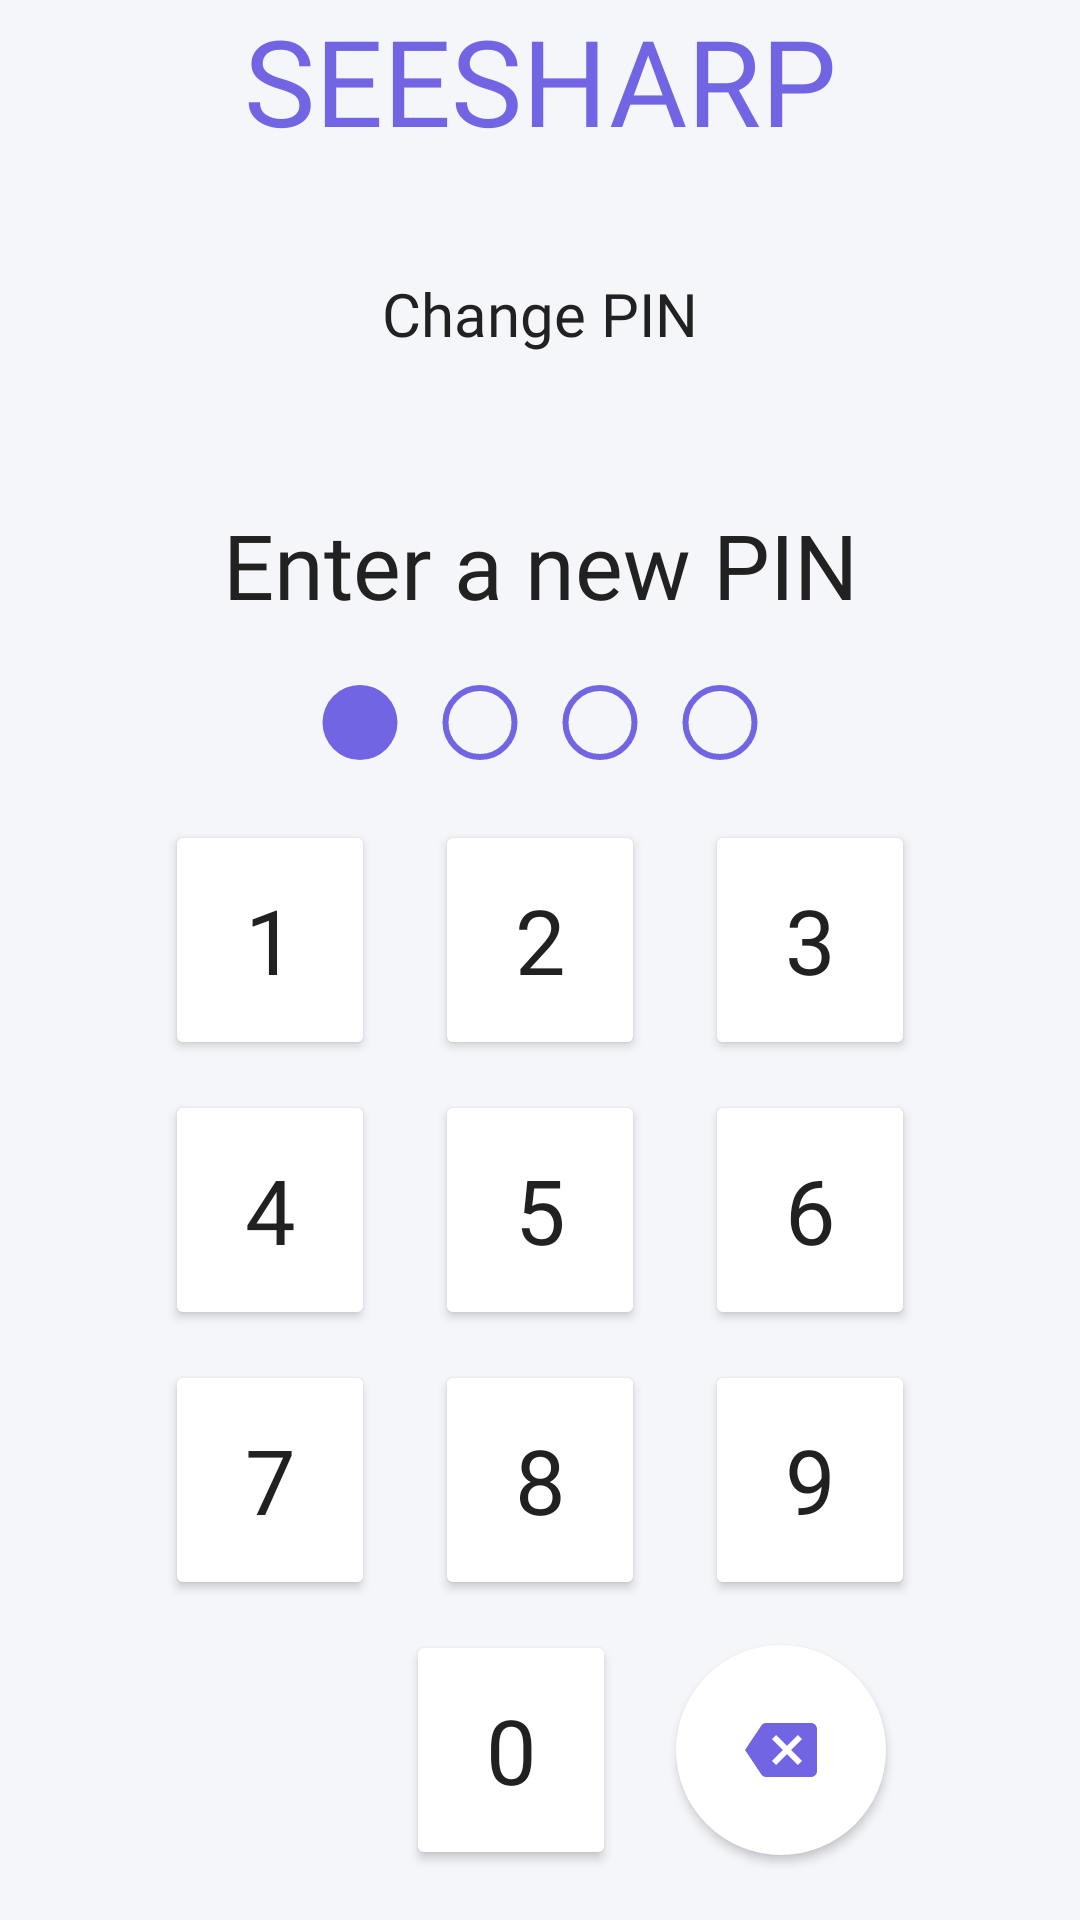

Icon click points for this 1080*1920 phone screenshot, format [x,y]:
backspace: [781,1750]
